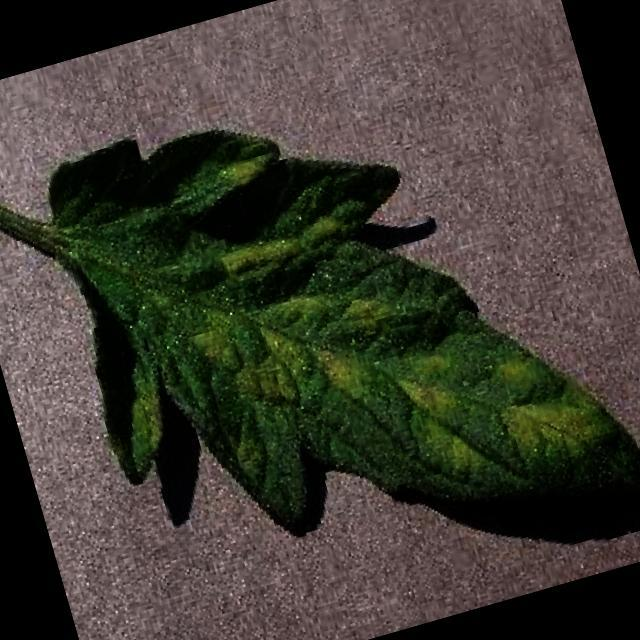Tomato mold leaf: (33, 20, 640, 635)
